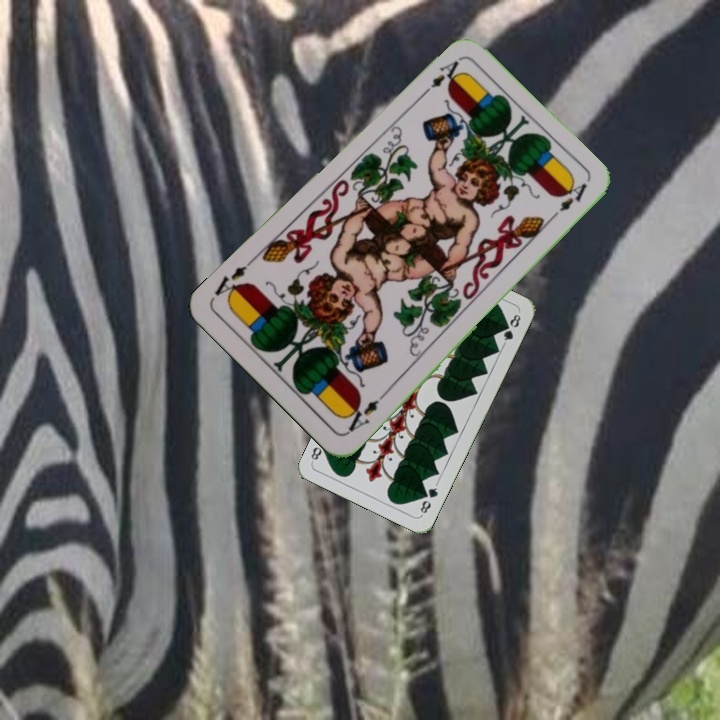EA: (340, 389, 388, 436), (426, 54, 463, 91)
G8: (416, 480, 441, 518)
